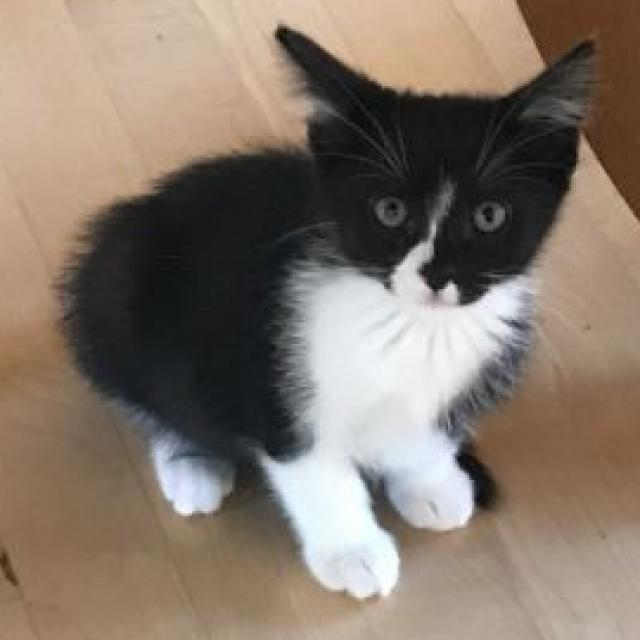Tuxedo: (59, 14, 606, 613)
